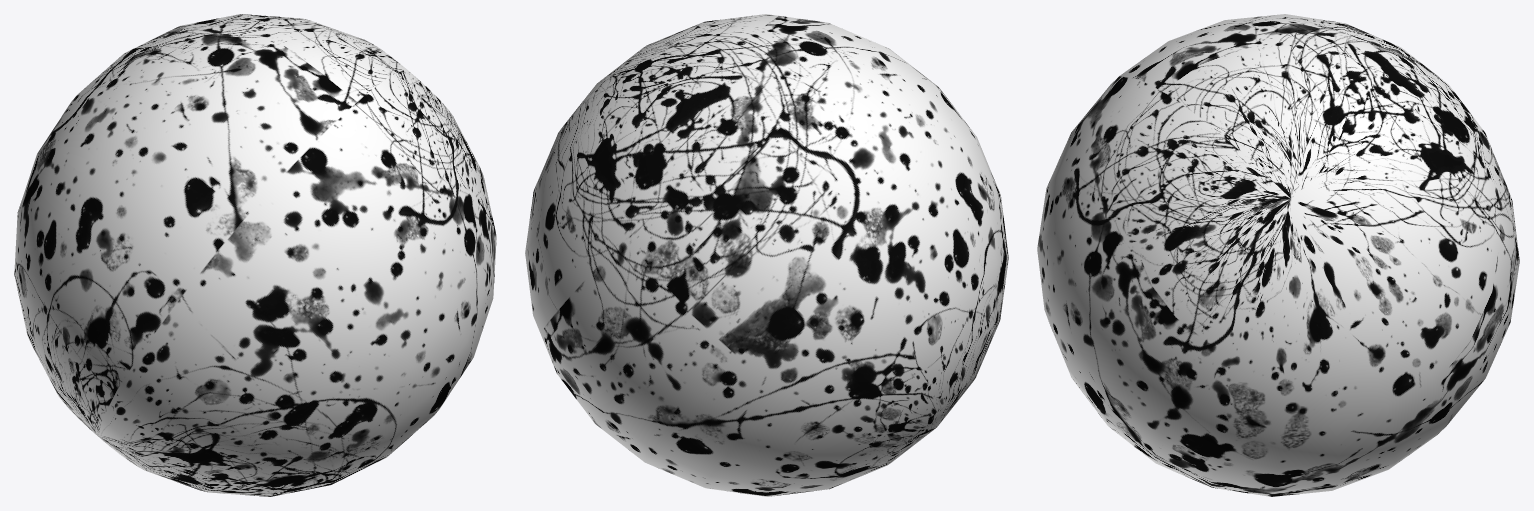
3 renders of one model, left to right at view 1: azimuth 30°, elevation 25°; view 2: azimuth 150°, elevation 25°; view 3: azimuth 270°, elevation 25°, orthographic.
Parts seen in each view (by area): view 1: Sphere; view 2: Sphere; view 3: Sphere.
Boxes of the visible parts, x1,y1,x2,y2 form: Sphere: [14, 14, 496, 496]; Sphere: [525, 14, 1008, 496]; Sphere: [1037, 14, 1519, 496].
Bounding box in the file's own units: 199 × 199 × 200.
1 material, 1 textured.
